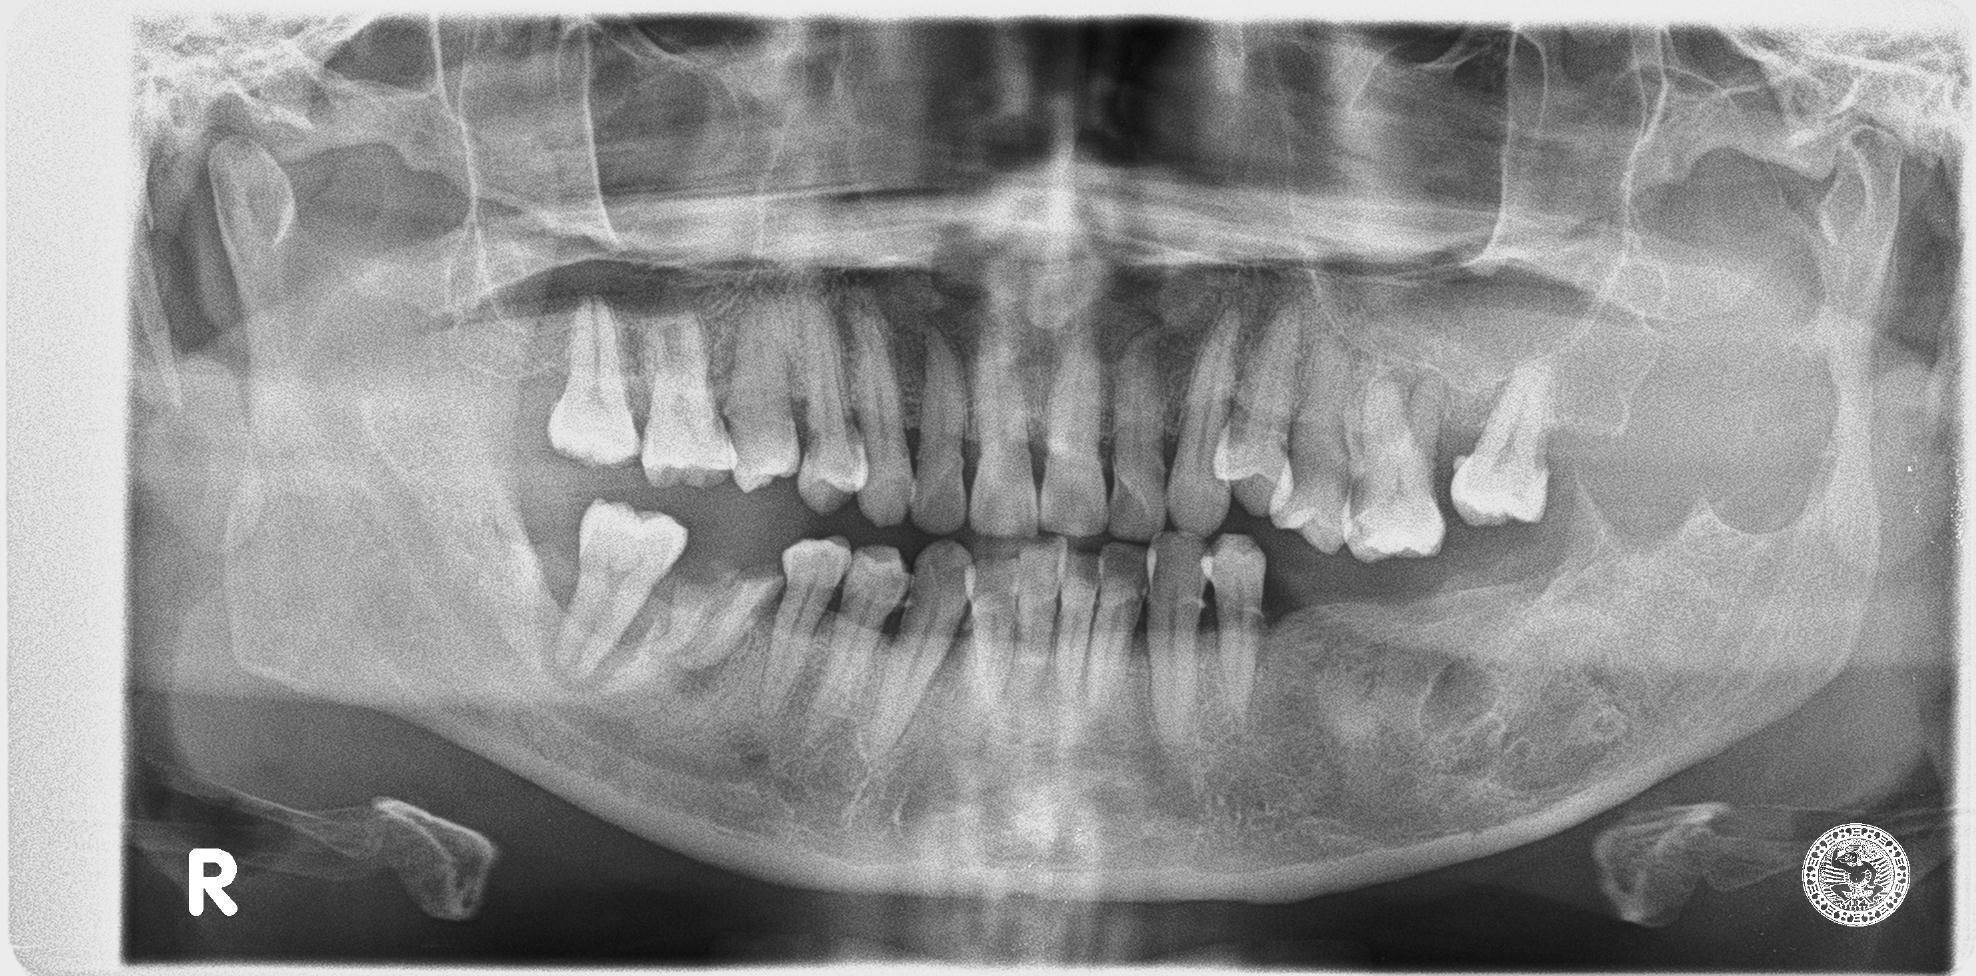Individual Tooth: (870, 541, 972, 750), (1268, 333, 1356, 556), (1215, 305, 1306, 522), (1340, 375, 1443, 565), (565, 501, 686, 657), (1167, 305, 1243, 536), (812, 546, 909, 717), (1452, 361, 1553, 523), (641, 311, 735, 485), (796, 289, 868, 512), (970, 308, 1038, 536), (725, 298, 799, 491), (549, 303, 638, 464), (1040, 333, 1106, 537), (767, 538, 852, 697), (660, 560, 785, 667), (851, 313, 912, 525), (1146, 532, 1203, 741), (1198, 533, 1265, 711), (910, 329, 968, 533), (1110, 335, 1164, 543), (1086, 542, 1146, 705), (962, 557, 1020, 701), (1013, 536, 1067, 680), (1056, 550, 1101, 699)
